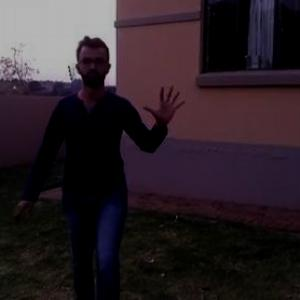follow_hand: (142, 81, 190, 126)
